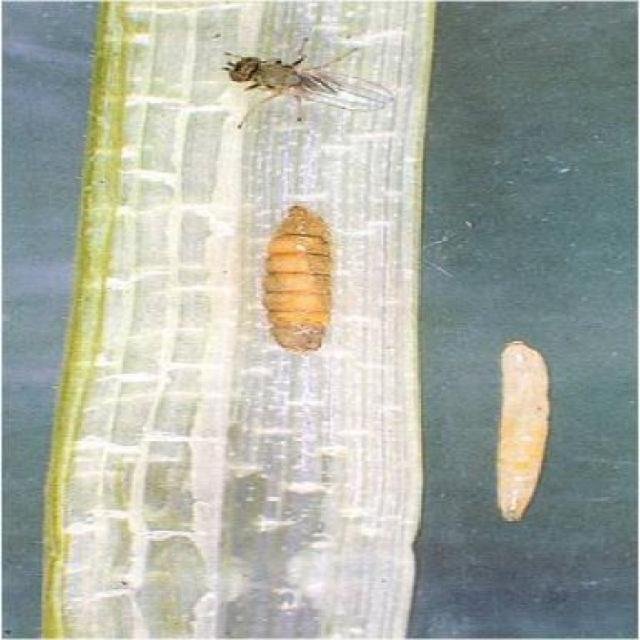whorl-maggot: (462, 337, 586, 545), (248, 197, 359, 369)
